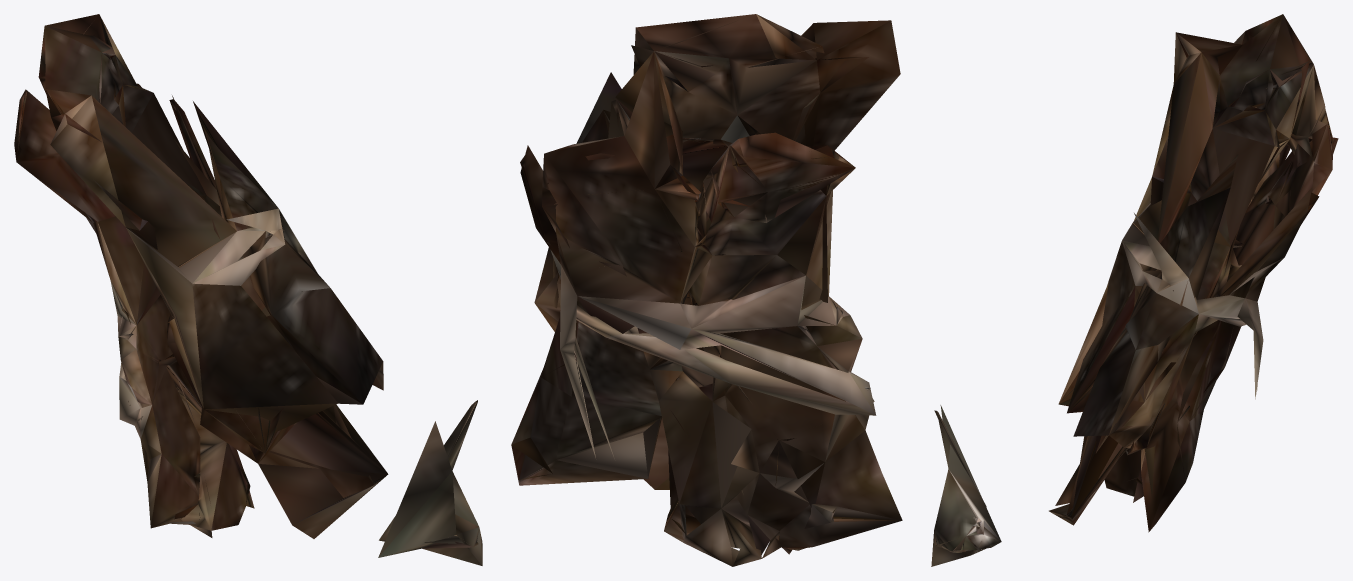
The model's file is carne_seca.glb.
3 renders of one model, left to right at view 1: azimuth 30°, elevation 25°; view 2: azimuth 150°, elevation 25°; view 3: azimuth 270°, elevation 25°, orthographic. The views are drawn at different scales.
Visible parts, largest first — view 1: geometry_0.001; view 2: geometry_0.001; view 3: geometry_0.001.
Boxes of the visible parts, x1=… form: geometry_0.001: x1=14, y1=14, x2=482, y2=565; geometry_0.001: x1=511, y1=14, x2=902, y2=566; geometry_0.001: x1=931, y1=14, x2=1338, y2=566.
Bounding box in the file's own units: 0.6972 × 1 × 0.8432.
1 material, 1 textured.
